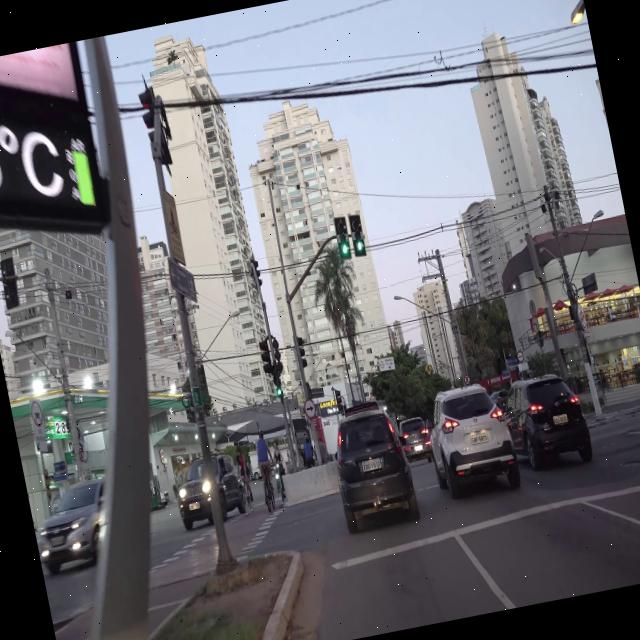License-plate: (550, 410, 575, 430), (360, 456, 386, 474), (470, 429, 490, 448)
